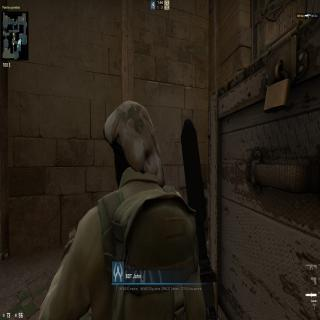CT-Head: (101, 96, 166, 188)
